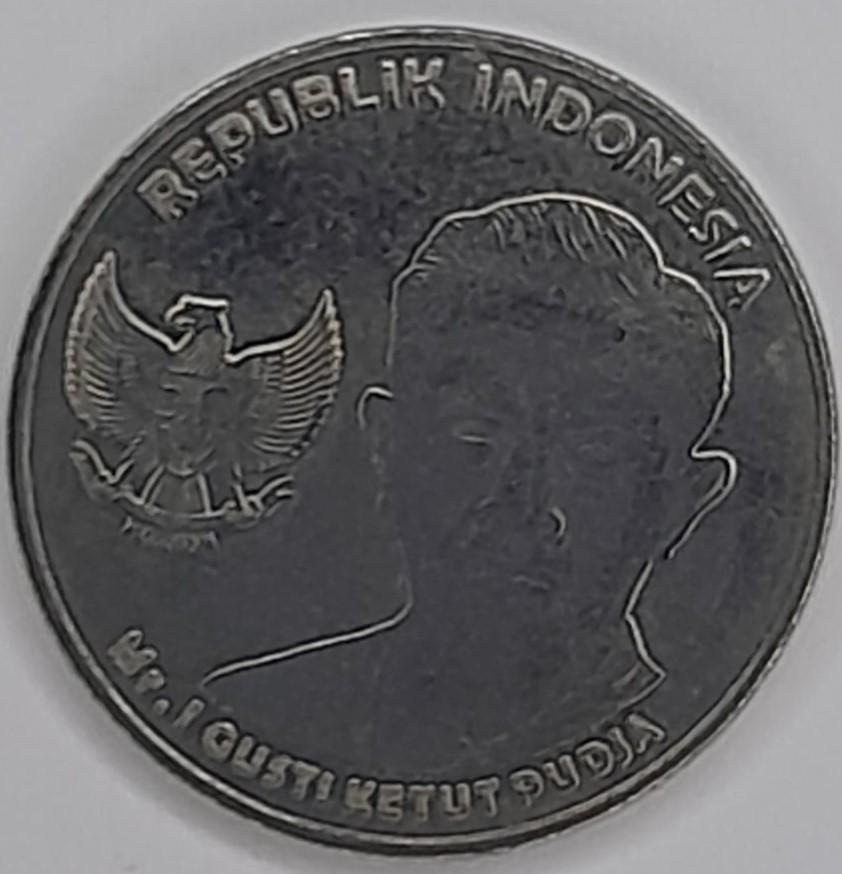coin_1000_e2016: (14, 17, 831, 874)
